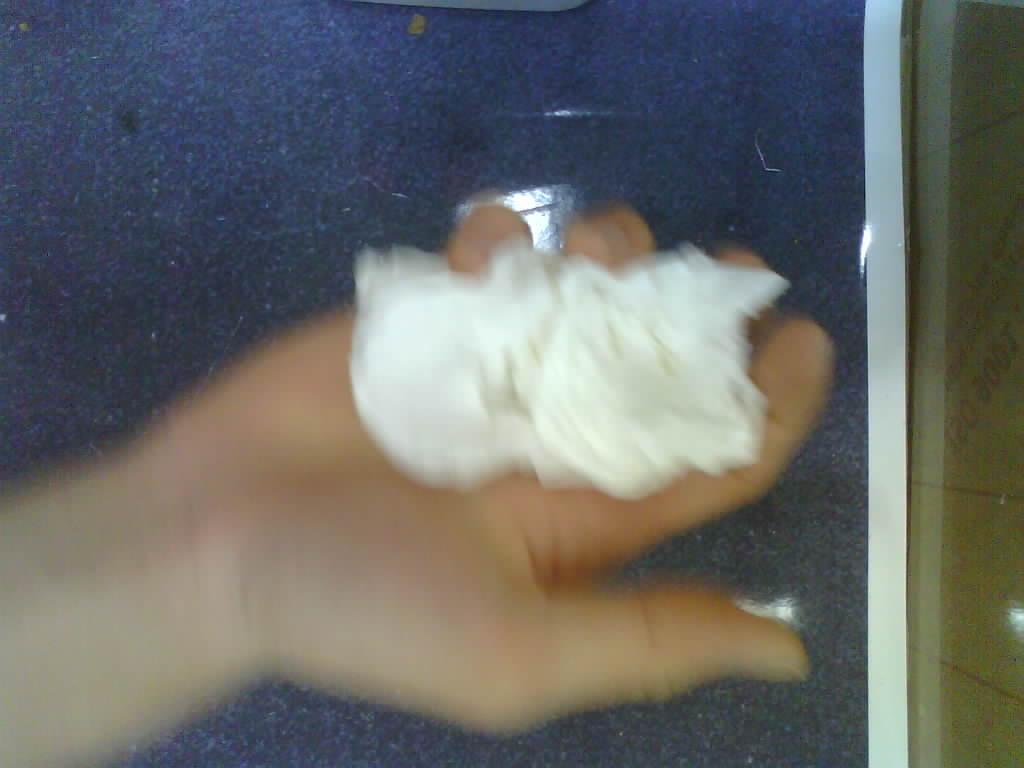paper: (350, 231, 788, 498)
